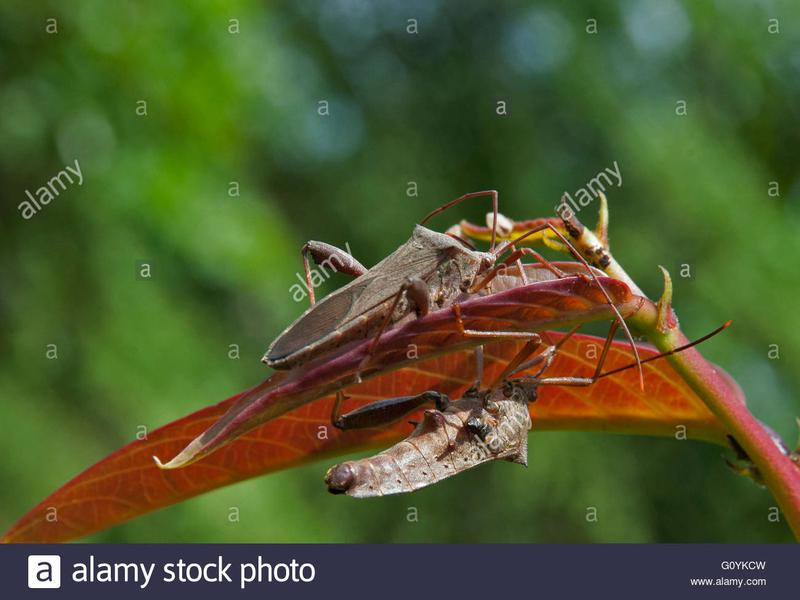Rice_earhead_bug: (246, 184, 620, 332), (286, 341, 583, 498)
